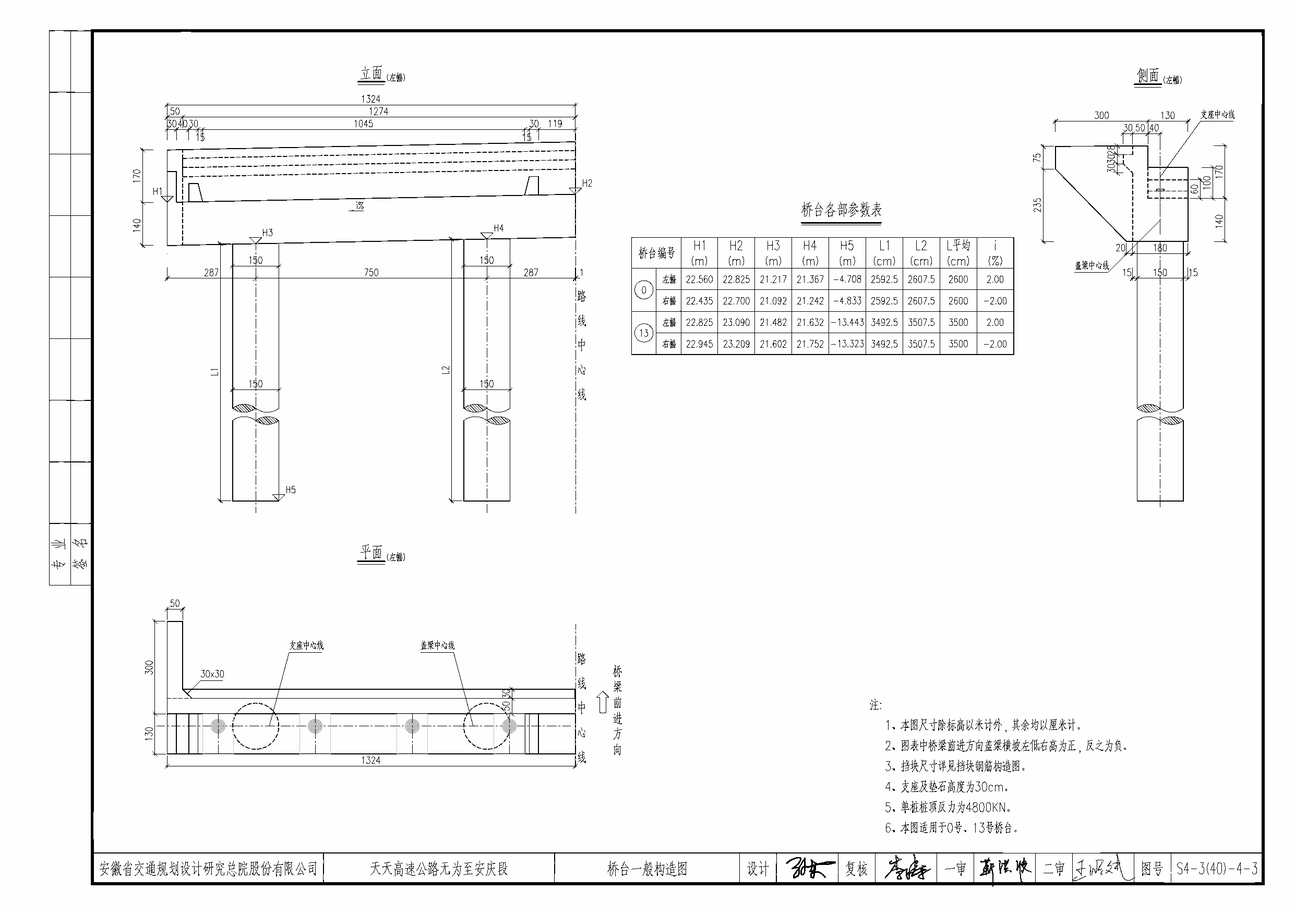D1: (458, 250, 516, 274), (227, 252, 284, 273)
D2: (458, 373, 515, 397), (227, 373, 284, 397)
L1: (1109, 50, 1209, 105), (349, 255, 393, 290)
